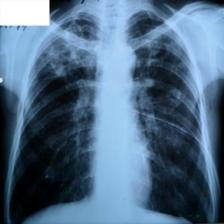tuberculosis: (1, 3, 216, 223)
